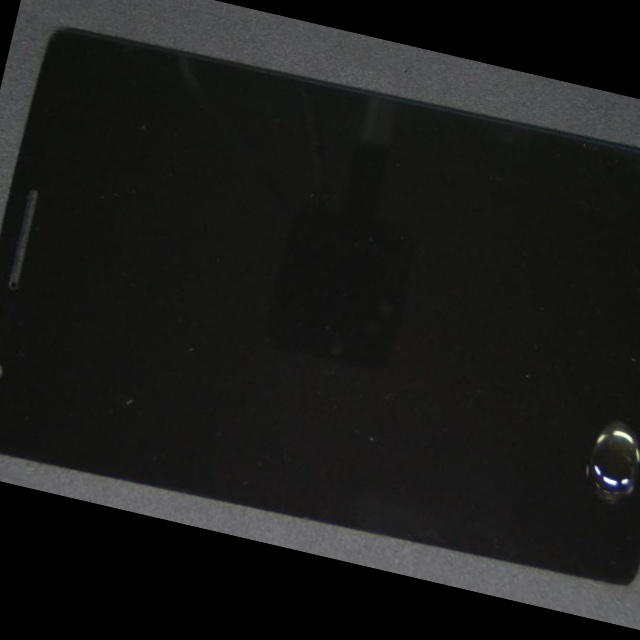oil: (272, 188, 640, 600)
